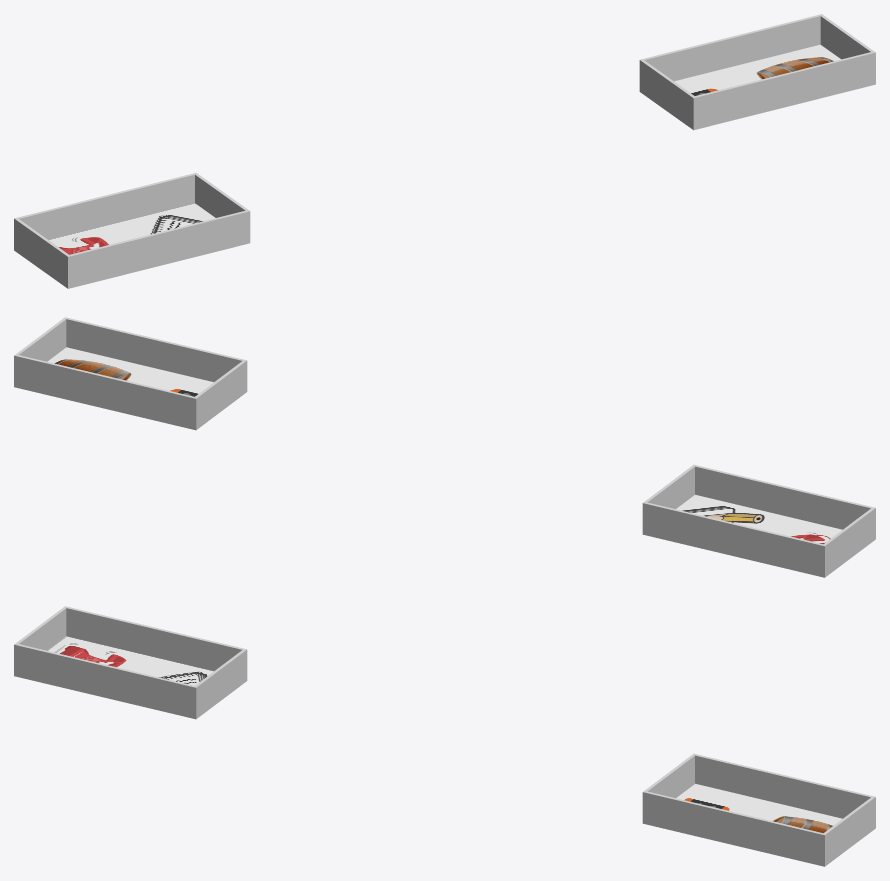
The model's file is binopen.dae.
3 renders of one model, top to bottom at view 1: azimuth 30°, elevation 25°; view 2: azimuth 150°, elevation 25°; view 3: azimuth 330°, elevation 25°, orthographic.
Visible parts, largest first — view 1: Cube, Cube.005; view 2: Cube, Cube.005; view 3: Cube, Cube.005.
Part boxes in pixels (x1=…): Cube: x1=14, y1=172, x2=250, y2=288; Cube.005: x1=639, y1=14, x2=875, y2=130; Cube: x1=642, y1=464, x2=875, y2=577; Cube.005: x1=14, y1=317, x2=247, y2=430; Cube: x1=14, y1=606, x2=247, y2=719; Cube.005: x1=642, y1=753, x2=875, y2=866.
Size of the model in its own units: 2.67 by 0.3421 by 0.1.
Materials: 4 (2 with a texture image).
